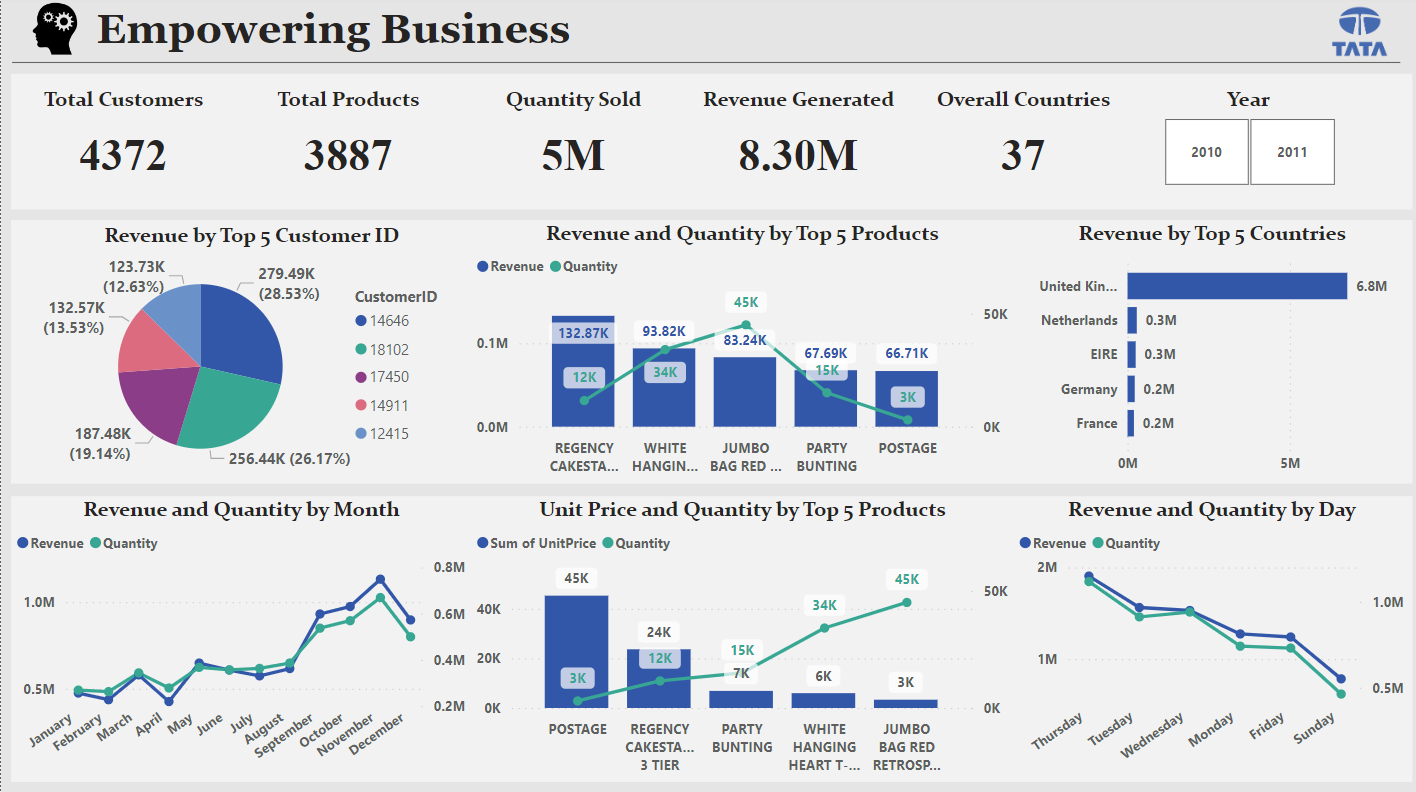

Layout of this report page (visuals, bound fields, positions):
{"tool":"powerbi","page":{"name":"Empowering","canvas":[1280,720],"ordinal":0},"visuals":[{"type":"textbox","box":[81.1,4.3,1171.4,56.5],"z":0},{"type":"basicShape","box":[0,40.5,1271.3,40.5],"z":1000},{"type":"shape","box":[8.5,71.1,1262.9,122.3],"z":2000},{"type":"image","box":[15.6,0,65.4,61.2],"z":3000},{"type":"image","box":[1169.1,2.8,110.9,58.3],"z":4000},{"type":"card","title":"Total Customers","fields":{"Values":["Count(Online Retail.CustomerID)"]},"box":[8.9,81.9,202.9,96.1],"z":5000},{"type":"card","title":"Total Products","fields":{"Values":["Count(Online Retail.Description)"]},"box":[211.8,81.9,202.9,96.1],"z":6000},{"type":"card","title":"Revenue Generated","fields":{"Values":["Sum(Online Retail.Revenue)"]},"box":[617.6,81.9,202.9,96.1],"z":7000},{"type":"card","title":"Quantity Sold","fields":{"Values":["Sum(Online Retail.Quantity)"]},"box":[414.7,81.9,202.9,96.1],"z":8000},{"type":"card","title":"Overall Countries","fields":{"Values":["Count(Online Retail.Country)"]},"box":[820.5,81.9,202.9,96.1],"z":9000},{"type":"slicer","title":"Year","fields":{"Values":["Online Retail.InvoiceDate.Variation.Date Hierarchy.Year"]},"box":[1023.4,81.9,202.9,96.1],"z":10000},{"type":"shape","box":[8.5,203.4,1262.9,237.5],"z":11000},{"type":"pieChart","title":"Revenue by Top 5 Customer ID","fields":{"Category":["Online Retail.CustomerID"],"Y":["Sum(Online Retail.Revenue)"]},"box":[35.6,204.8,379.7,237.5],"z":12000},{"type":"lineClusteredColumnComboChart","title":"Revenue and Quantity by Top 5 Products","fields":{"Category":["Online Retail.Description"],"Y":["Sum(Online Retail.Revenue)"],"Y2":["Sum(Online Retail.Quantity)"]},"box":[423.8,203.4,489.2,237.5],"z":13000},{"type":"shape","box":[8.5,452.3,1262.9,257.4],"z":14000},{"type":"clusteredBarChart","title":"Revenue by Top 5 Countries","fields":{"Category":["Online Retail.Country"],"Y":["Sum(Online Retail.Revenue)"]},"box":[913.1,203.4,358.4,237.5],"z":15000},{"type":"lineChart","fields":{"Category":["Online Retail.InvoiceDate.Variation.Date Hierarchy.Month"],"Y":["Sum(Online Retail.Revenue)"],"Y2":["Sum(Online Retail.Quantity)"]},"box":[8.5,452.3,415.3,257.4],"z":16000},{"type":"lineChart","title":"Revenue and Quantity by Day","fields":{"Y":["Sum(Online Retail.Revenue)"],"Y2":["Sum(Online Retail.Quantity)"],"Category":["Online Retail.Day Name"]},"box":[913,452.1,357.7,256.3],"z":17000},{"type":"lineClusteredColumnComboChart","title":"Unit Price and Quantity by Top 5 Products","fields":{"Category":["Online Retail.Description"],"Y2":["Sum(Online Retail.Quantity)"],"Y":["Sum(Online Retail.UnitPrice)"]},"box":[423.6,452.1,489.4,258.1],"z":18000}]}

Visuals, with their boxes in screenshot pixels (x1, y1, x2, y2), scaled from the page's 1280x720 canvas onto the 1416x792 screenshot:
textbox: select_region(90, 5, 1386, 67)
basicShape: select_region(0, 45, 1406, 89)
shape: select_region(9, 78, 1406, 213)
image: select_region(17, 0, 90, 67)
image: select_region(1293, 3, 1415, 67)
"Total Customers" card: select_region(10, 90, 234, 196)
"Total Products" card: select_region(234, 90, 459, 196)
"Revenue Generated" card: select_region(683, 90, 908, 196)
"Quantity Sold" card: select_region(459, 90, 683, 196)
"Overall Countries" card: select_region(908, 90, 1132, 196)
"Year" slicer: select_region(1132, 90, 1357, 196)
shape: select_region(9, 224, 1406, 485)
"Revenue by Top 5 Customer ID" pieChart: select_region(39, 225, 459, 487)
"Revenue and Quantity by Top 5 Products" lineClusteredColumnComboChart: select_region(469, 224, 1010, 485)
shape: select_region(9, 498, 1406, 781)
"Revenue by Top 5 Countries" clusteredBarChart: select_region(1010, 224, 1407, 485)
lineChart - Online Retail.InvoiceDate.Variation.Date Hierarchy.Month x Sum(Online Retail.Revenue): select_region(9, 498, 469, 781)
"Revenue and Quantity by Day" lineChart: select_region(1010, 497, 1406, 779)
"Unit Price and Quantity by Top 5 Products" lineClusteredColumnComboChart: select_region(469, 497, 1010, 781)
